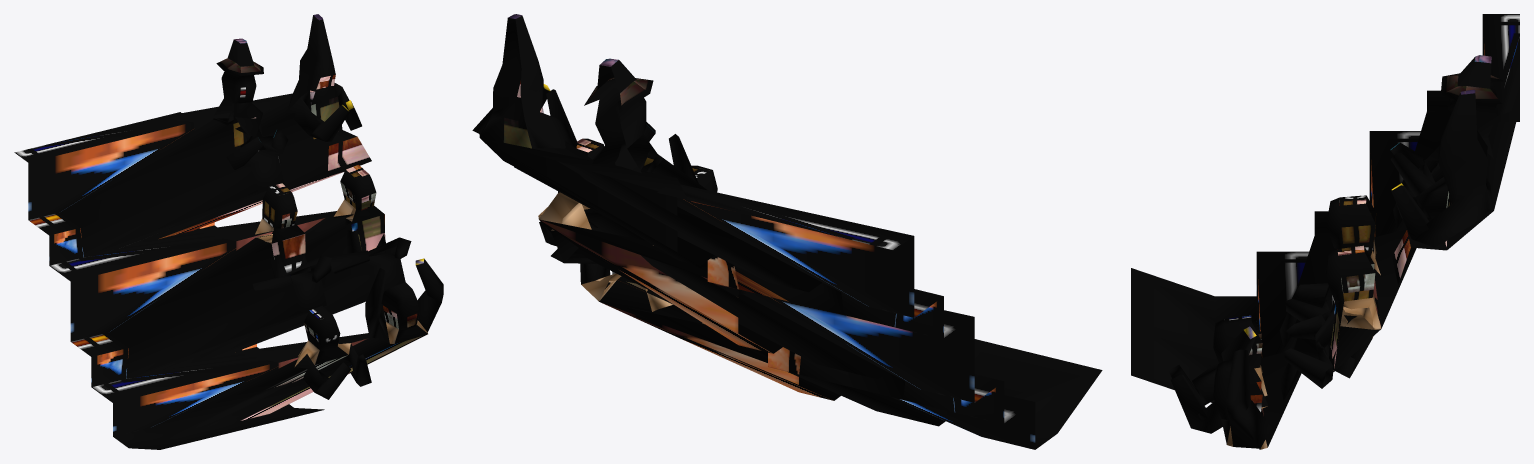
3 views of the same model, side by side, from view 1: azimuth 30°, elevation 25°; view 2: azimuth 150°, elevation 25°; view 3: azimuth 270°, elevation 25° (orthographic). The views are drawn at different scales.
Visible parts, largest first — view 1: T1L2M009_20; view 2: T1L2M009_20; view 3: T1L2M009_20.
Part boxes in pixels (x1=…): T1L2M009_20: x1=14, y1=14, x2=443, y2=449; T1L2M009_20: x1=472, y1=14, x2=1102, y2=449; T1L2M009_20: x1=1131, y1=14, x2=1519, y2=449.
Bounding box in the file's own units: 1.91 × 1.64 × 1.48.
